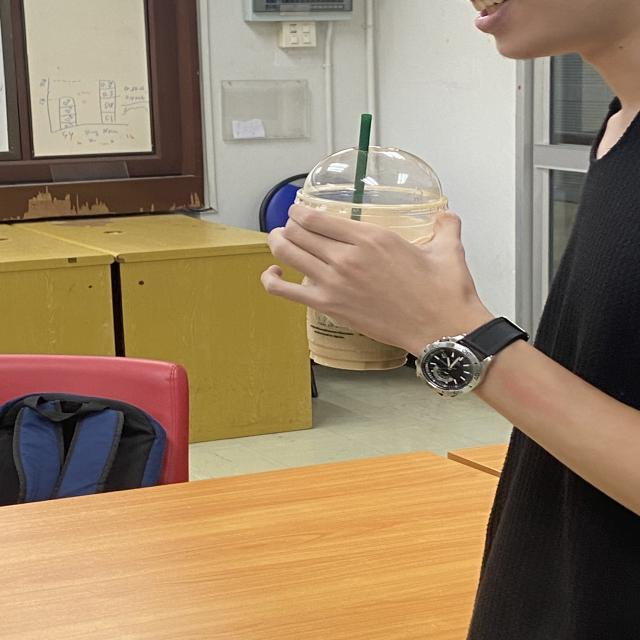cup: (291, 146, 451, 371)
